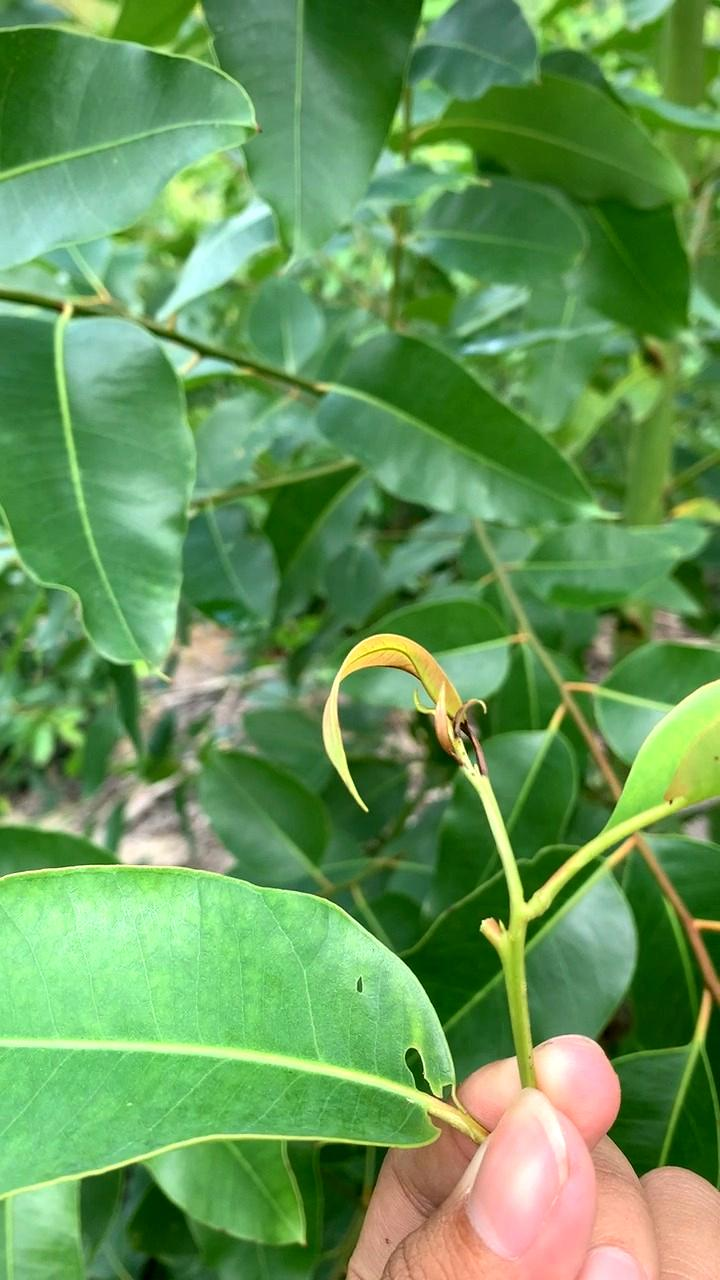Helopeltis-Withered Sprout: (307, 608, 510, 829)
